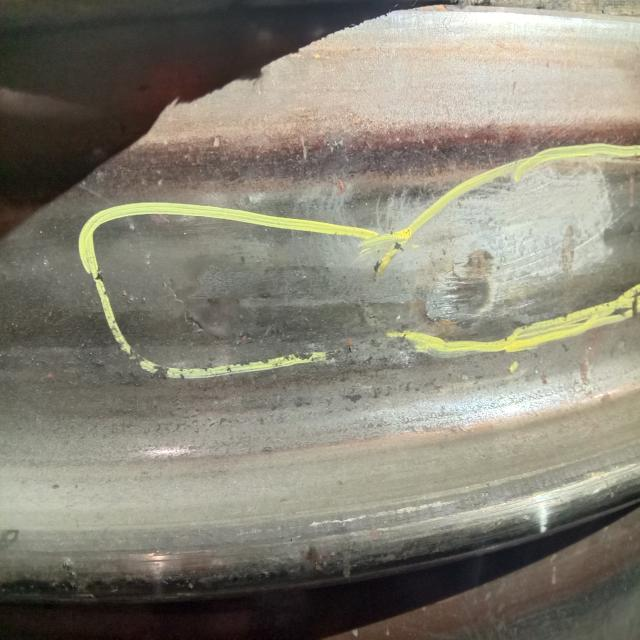Contact_Fatigue_Cracks: (203, 314, 415, 383)
Peeling: (427, 243, 500, 346)
